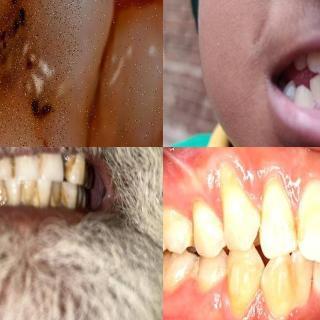Gum Swelling: (174, 147, 320, 223), (163, 273, 239, 320)
calculus: (1, 195, 64, 207)
cavities: (0, 0, 76, 141), (105, 71, 163, 147)
maligned: (257, 248, 299, 314), (308, 75, 320, 107), (295, 83, 311, 106), (308, 50, 320, 79), (295, 51, 307, 76)
stains: (275, 206, 319, 247), (61, 156, 80, 167)
